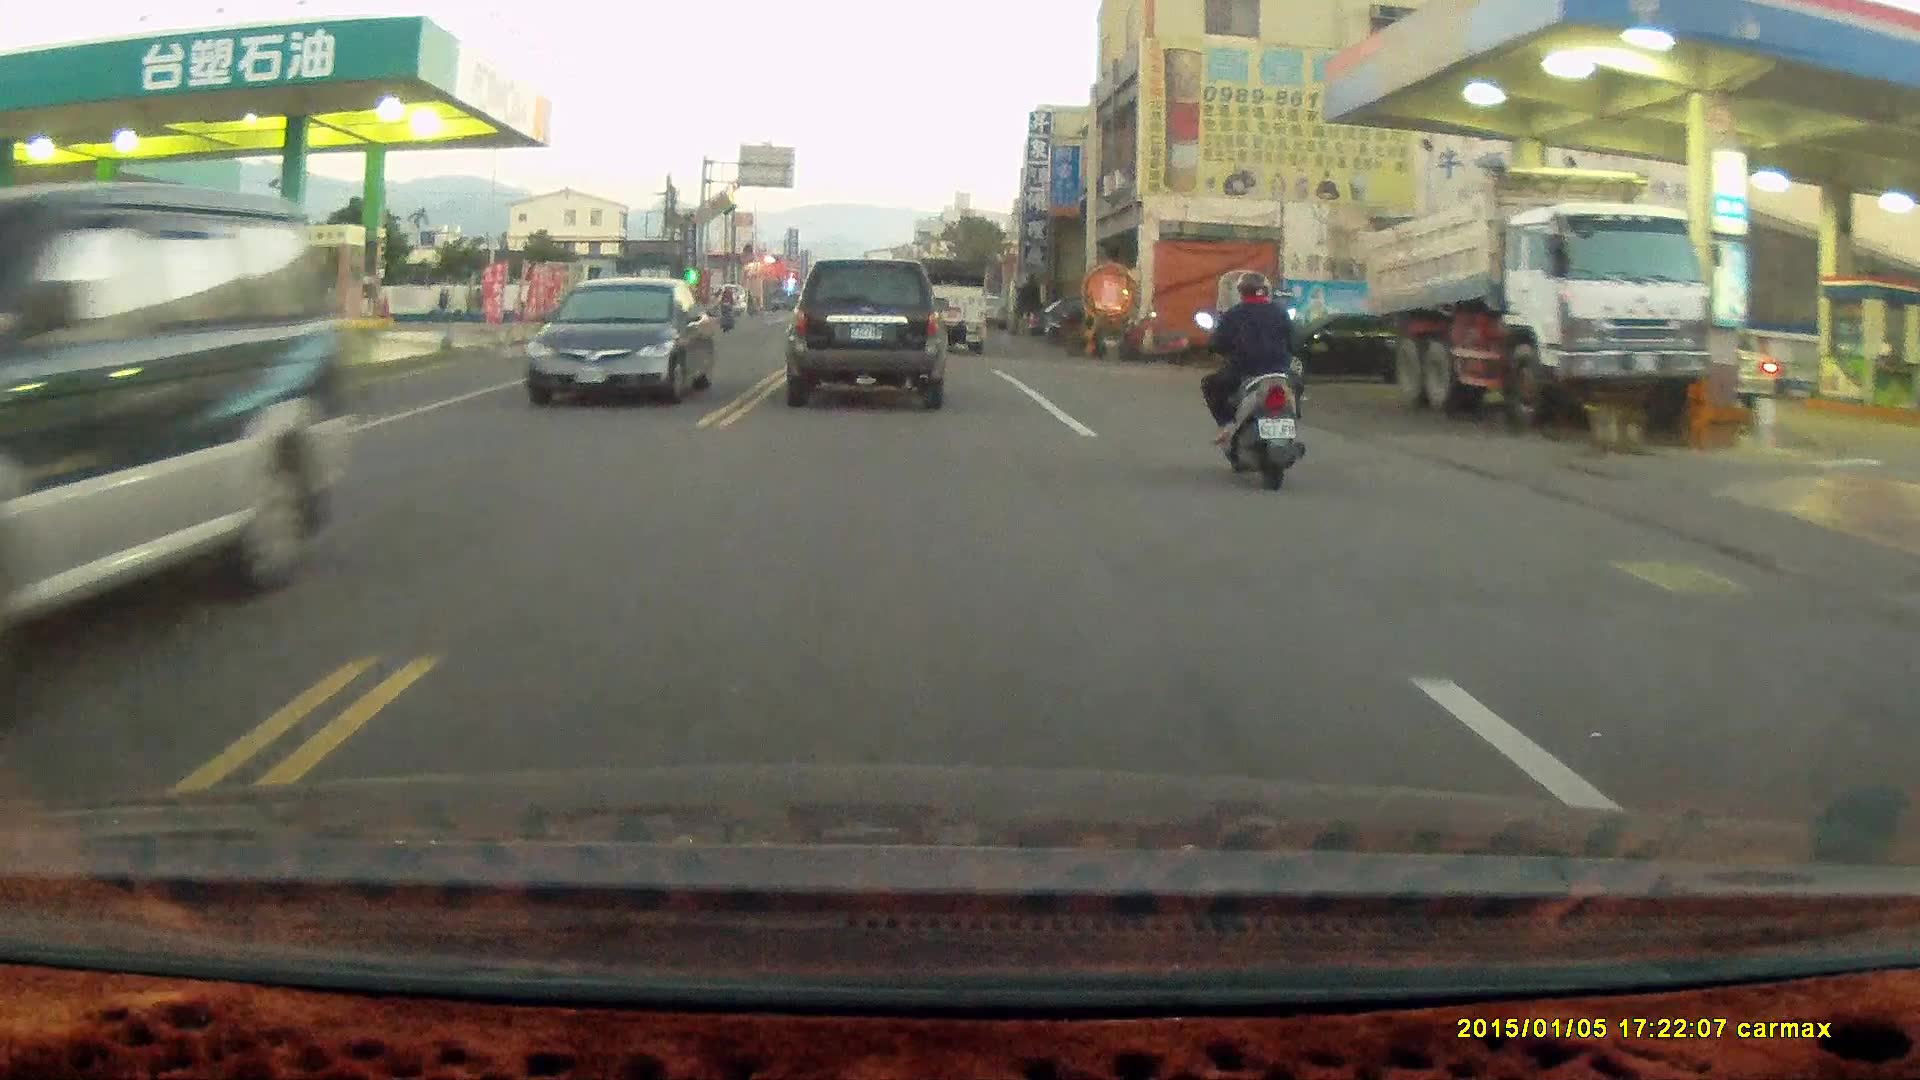rider: (1191, 268, 1306, 492), (712, 285, 736, 336)
vehicle: (1, 177, 359, 680), (1366, 161, 1707, 423), (528, 274, 716, 409), (787, 256, 952, 406), (903, 256, 991, 357)
